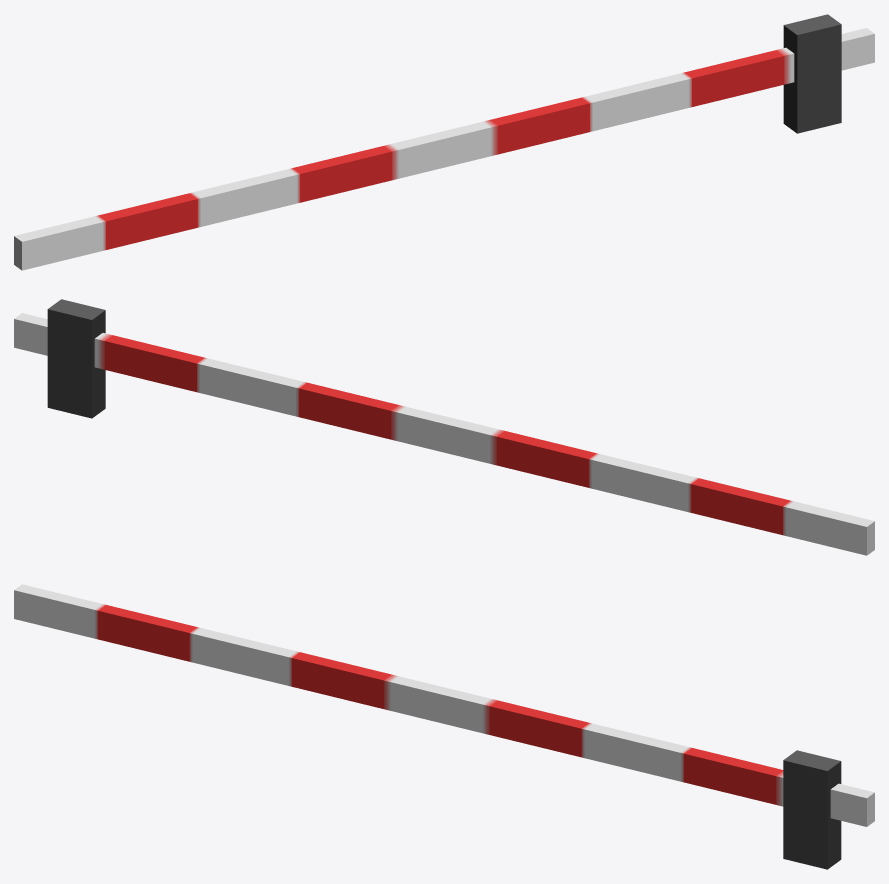
Rendered from SM_Prop_Barrier_Pole_01.fbx.
3 views of the same model, one above another, from view 1: azimuth 30°, elevation 25°; view 2: azimuth 150°, elevation 25°; view 3: azimuth 330°, elevation 25° (orthographic).
Visible parts, largest first — view 1: SM_Prop_Barrier_Pole_01; view 2: SM_Prop_Barrier_Pole_01; view 3: SM_Prop_Barrier_Pole_01.
Part boxes in pixels (x1,y1,x2,y2): SM_Prop_Barrier_Pole_01: [14, 14, 874, 270]; SM_Prop_Barrier_Pole_01: [14, 299, 874, 555]; SM_Prop_Barrier_Pole_01: [14, 584, 874, 869].
Size of the model in its own units: 5.2 by 0.5745 by 0.1452.
